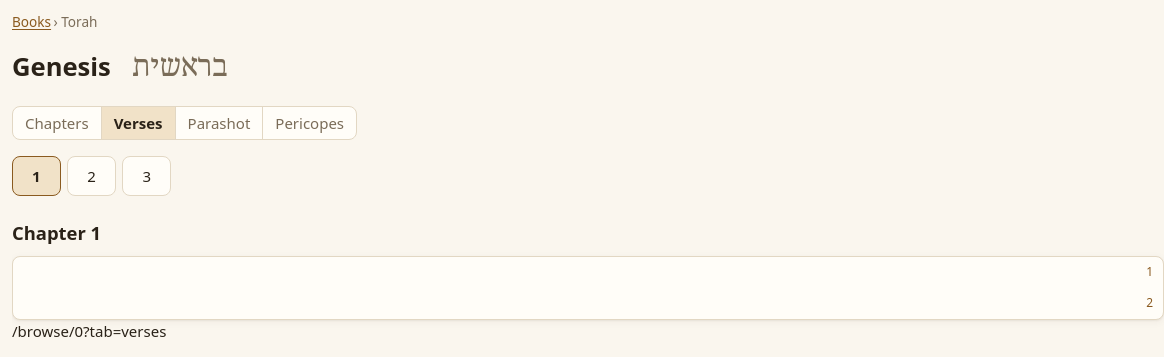
Test: BookPage verses tab › switches chapter via the URL
The width and height of the screenshot is (1164, 357).
Expected: the link titled "Genesis 1:1: similar verses" is shown, [1146,263,1153,280]
Click the button "3" at (147, 176), box [122,156,171,196]
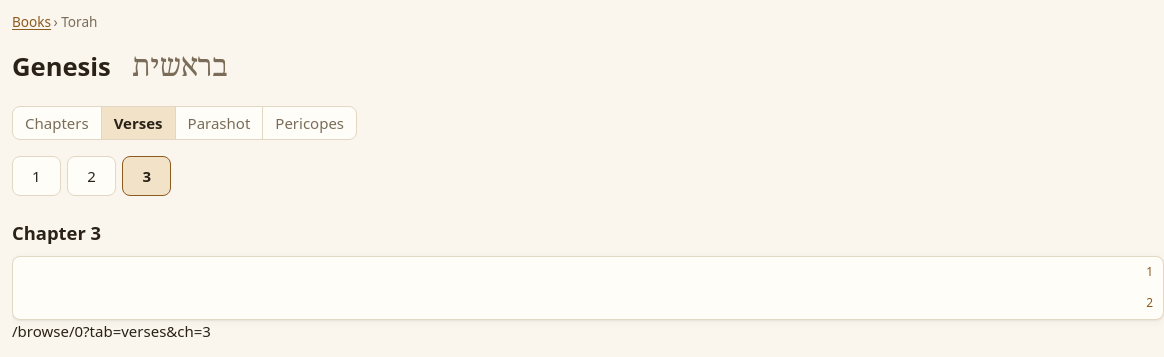
Result: the text with test id "loc" reads "/browse/0?tab=verses&ch=3" at [12,320,211,340]
